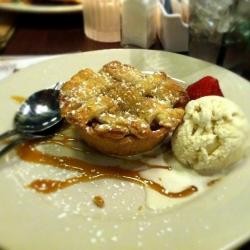apple_pie: (58, 63, 184, 163)
icecream: (170, 93, 246, 173)
